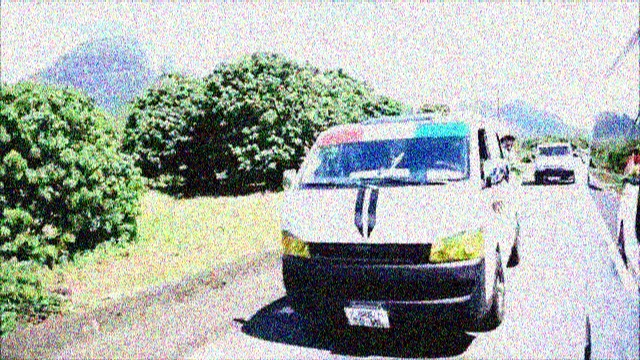van: (274, 109, 520, 337)
